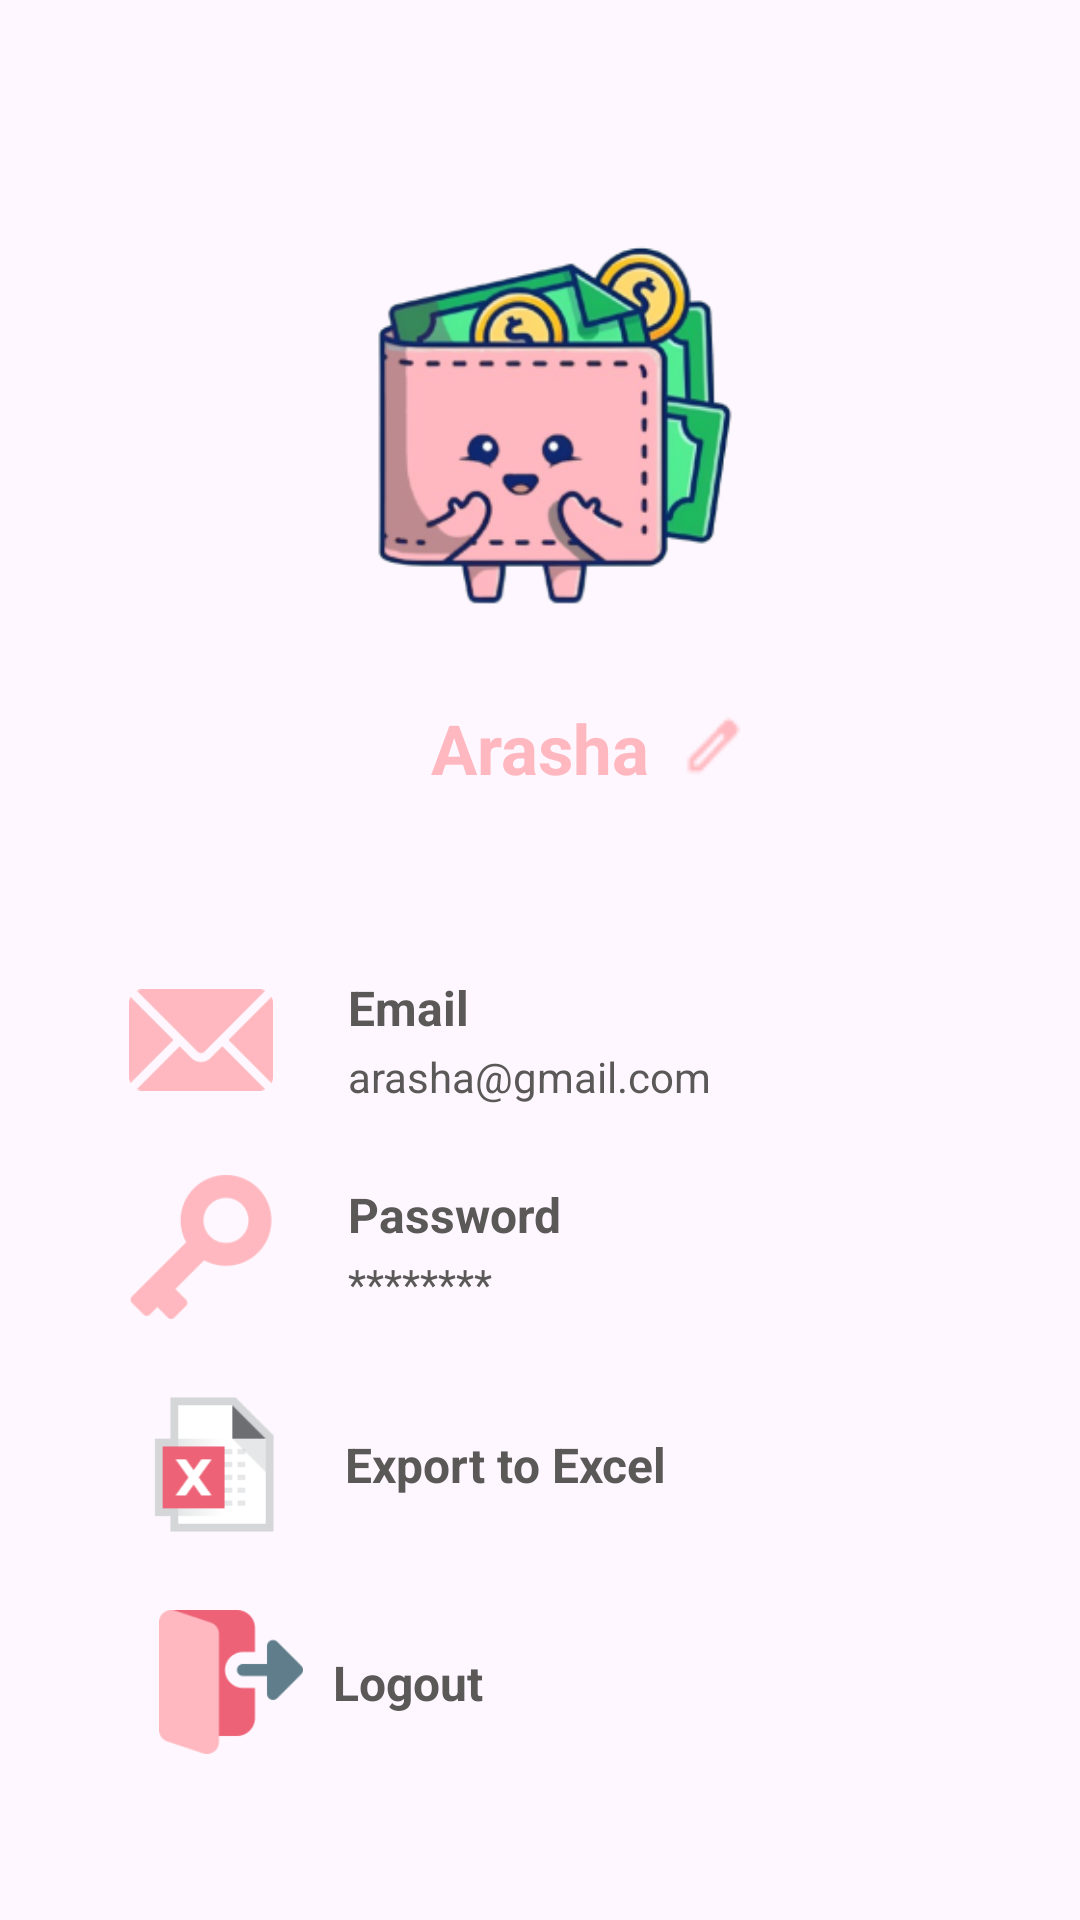

Screen size 1080x1920. Icon name, then its center in pixels as point (x, y):
edit: point (713, 745)
key: point (201, 1247)
